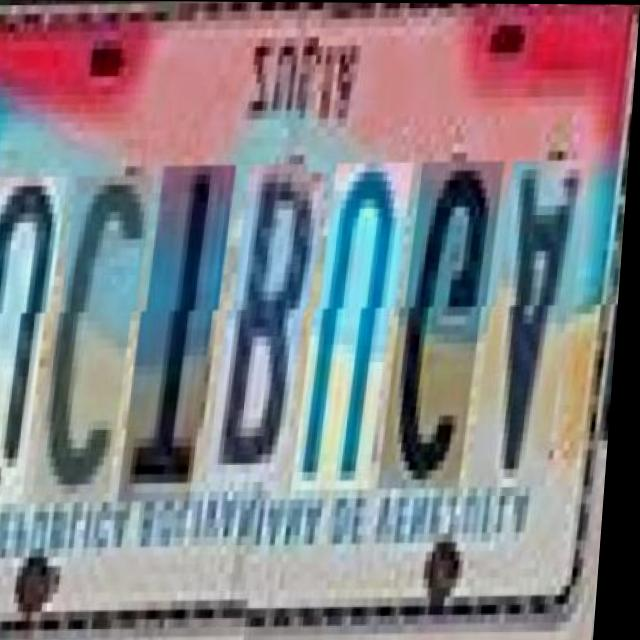0: (0, 177, 65, 506)
a: (480, 152, 589, 481)
b: (215, 165, 324, 484)
c: (43, 176, 151, 505)
g: (388, 153, 503, 482)
t: (128, 165, 233, 503)
u: (302, 154, 412, 483)
